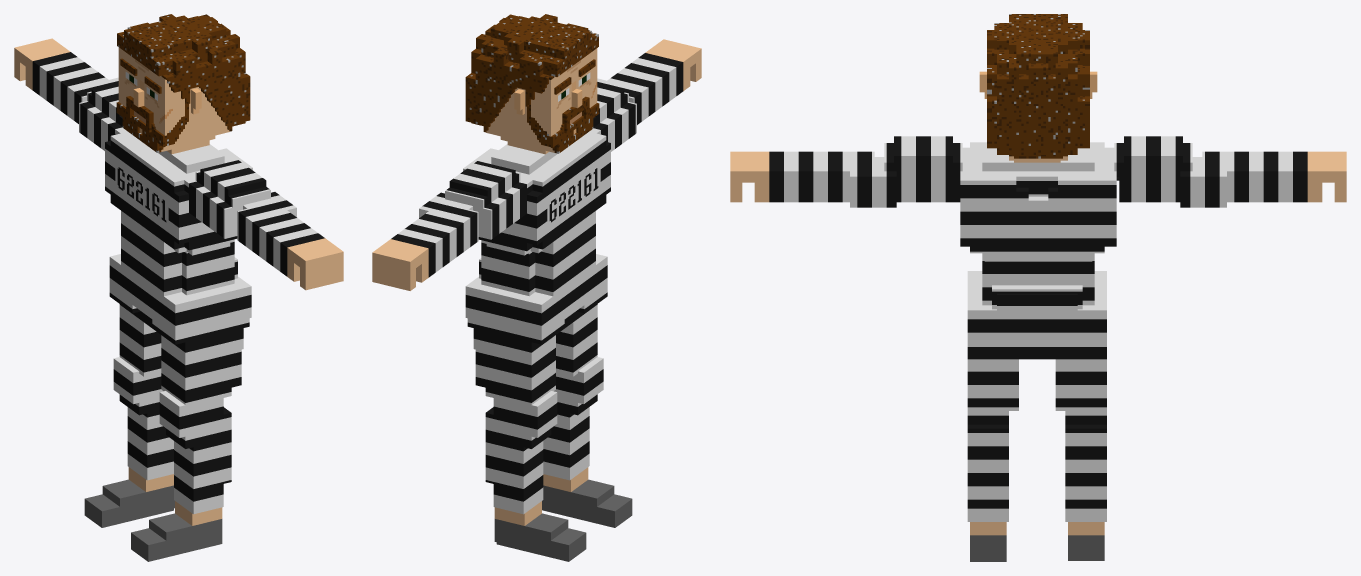
File: main_char_prisoner.obj
The picture shows the model from 3 angles, left to right: view 1: azimuth 30°, elevation 25°; view 2: azimuth 150°, elevation 25°; view 3: azimuth 270°, elevation 25°; orthographic projection. The views are drawn at different scales.
Size of the model in its own units: 5.5 by 23.5 by 25.2.
1 material, 1 textured.
